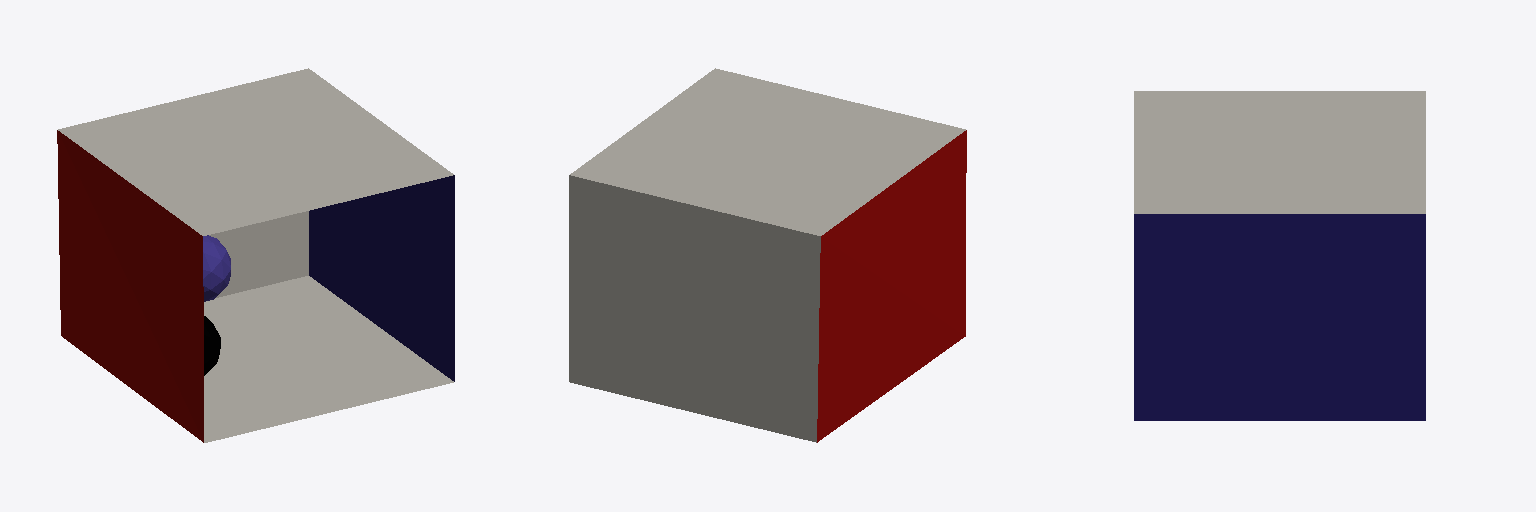
File: CornellBox-Sphere-845.obj
3 views of the same model, side by side, from view 1: azimuth 30°, elevation 25°; view 2: azimuth 150°, elevation 25°; view 3: azimuth 270°, elevation 25° (orthographic).
Parts seen in each view (by area): view 1: ceiling, leftWall, floor, rightWall, backWall, leftSphere, rightSphere; view 2: backWall, ceiling, leftWall; view 3: rightWall, ceiling.
Boxes of the visible parts, box(x1,y1,x2,y2) form: ceiling: box(58, 68, 453, 235); leftWall: box(57, 130, 203, 442); floor: box(204, 276, 453, 442); rightWall: box(309, 175, 454, 381); backWall: box(209, 211, 308, 297); leftSphere: box(203, 235, 230, 301); rightSphere: box(204, 316, 220, 375); backWall: box(569, 175, 820, 442); ceiling: box(570, 68, 965, 235); leftWall: box(817, 130, 966, 442); rightWall: box(1134, 214, 1425, 420); ceiling: box(1134, 91, 1425, 213).
Bounding box in the file's own units: 2.02 × 1.59 × 2.03.